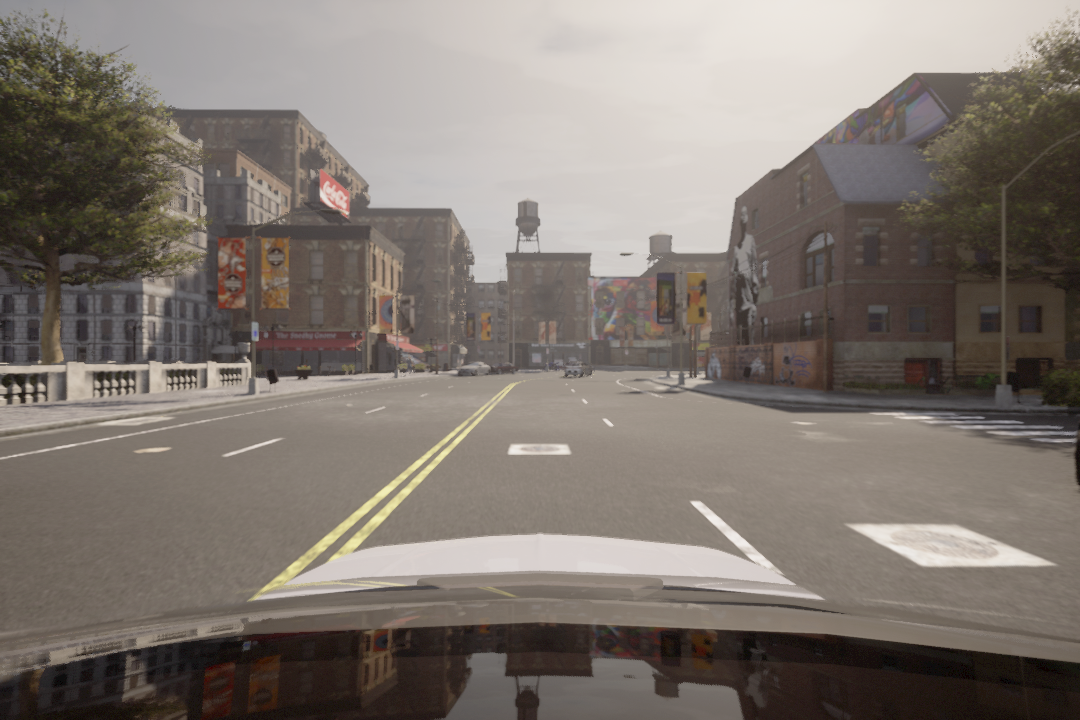walkside: (873, 410, 1078, 460)
